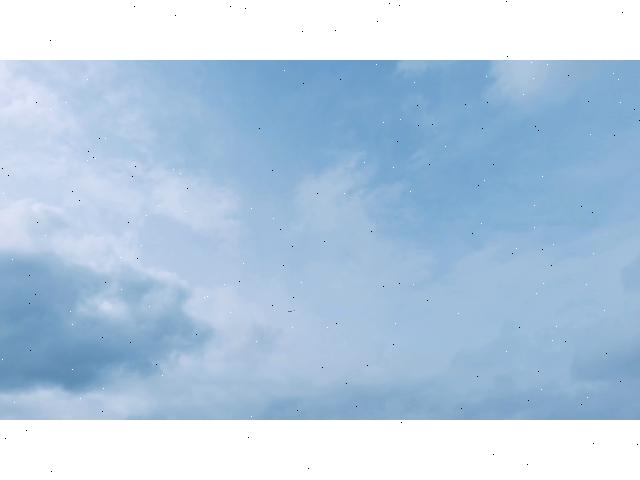Anti-Drone: (286, 307, 296, 315)
